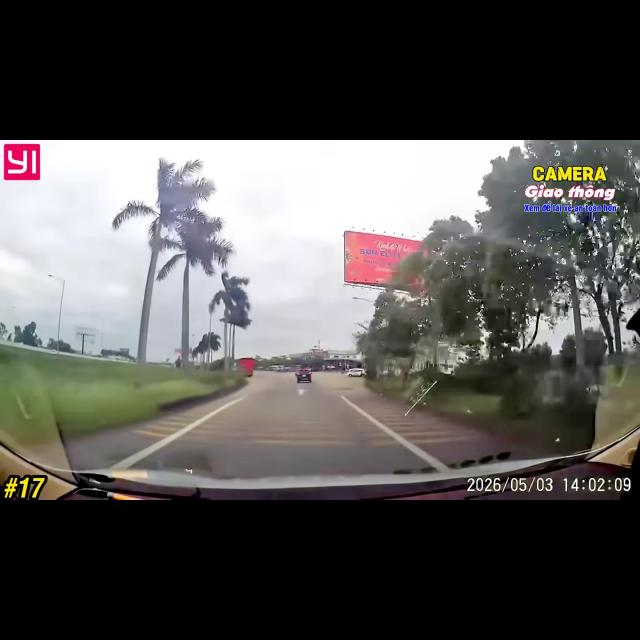car: (296, 369, 311, 382), (347, 368, 365, 376)
truck: (238, 358, 254, 376)
